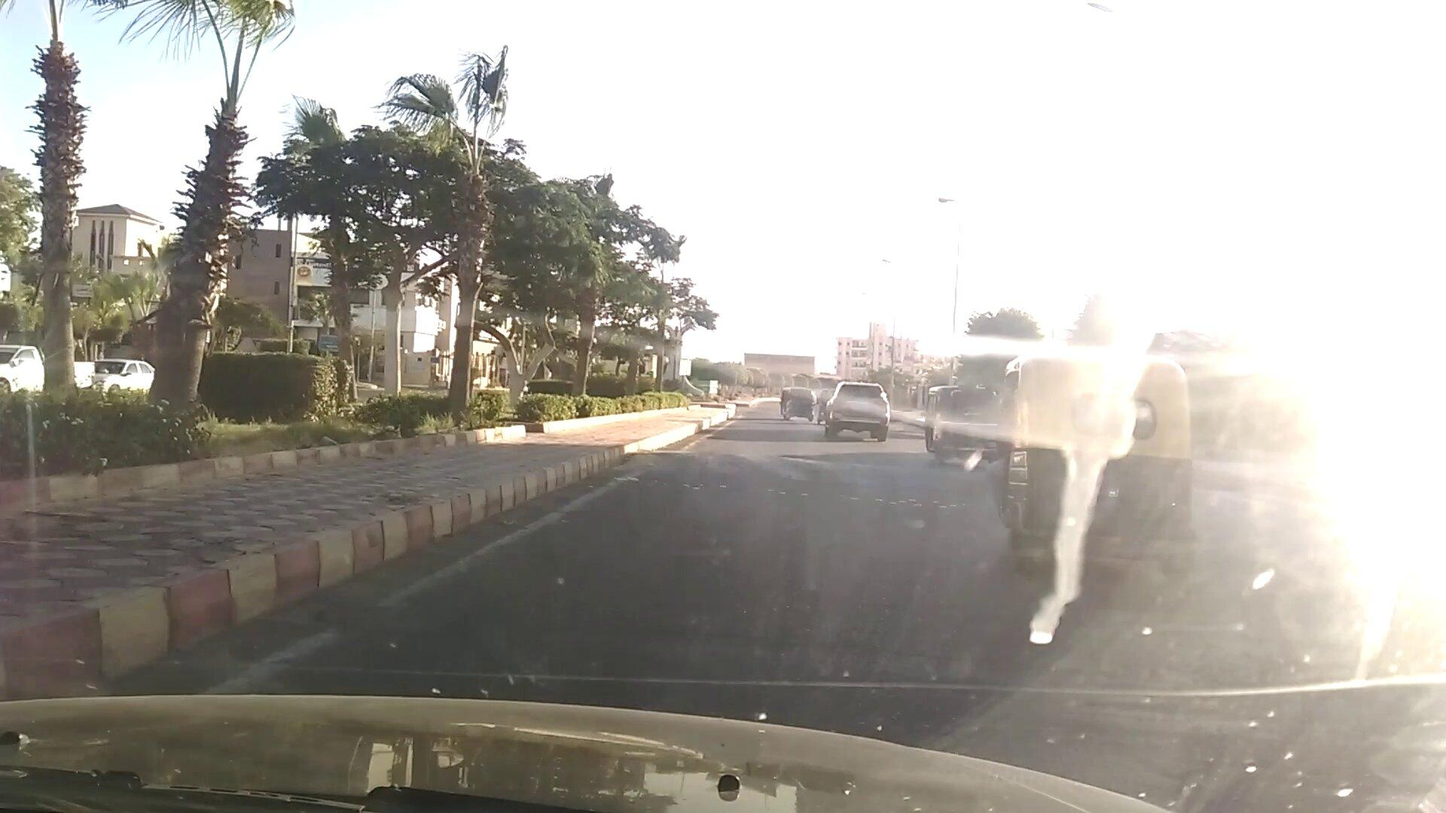Bump: (653, 457, 1002, 480)
